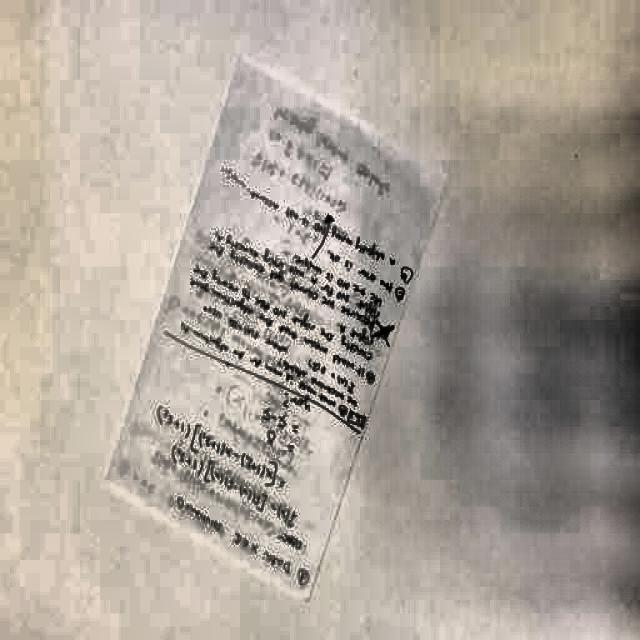paper: (121, 70, 435, 596)
